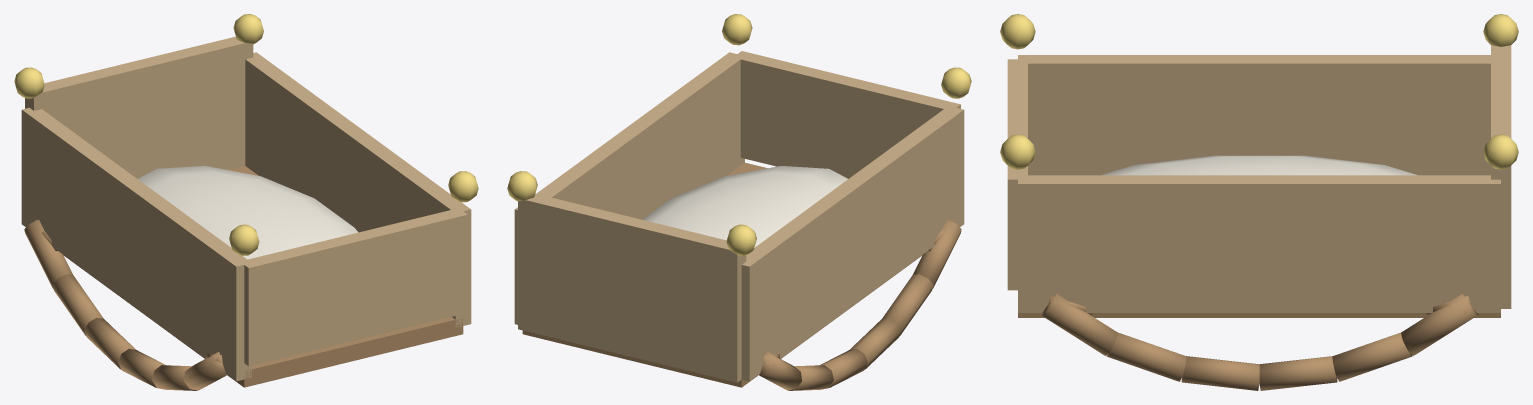
The model's file is cuna.glb.
3 renders of one model, left to right at view 1: azimuth 30°, elevation 25°; view 2: azimuth 150°, elevation 25°; view 3: azimuth 270°, elevation 25°, orthographic. The views are drawn at different scales.
Visible parts, largest first — view 1: cuna; view 2: cuna; view 3: cuna.
Boxes of the visible parts, box(x1,y1,x2,y2) form: cuna: box(14, 14, 478, 390); cuna: box(507, 14, 971, 390); cuna: box(1000, 14, 1518, 390).
Size of the model in its own units: 0.656 by 0.5428 by 1.02.
